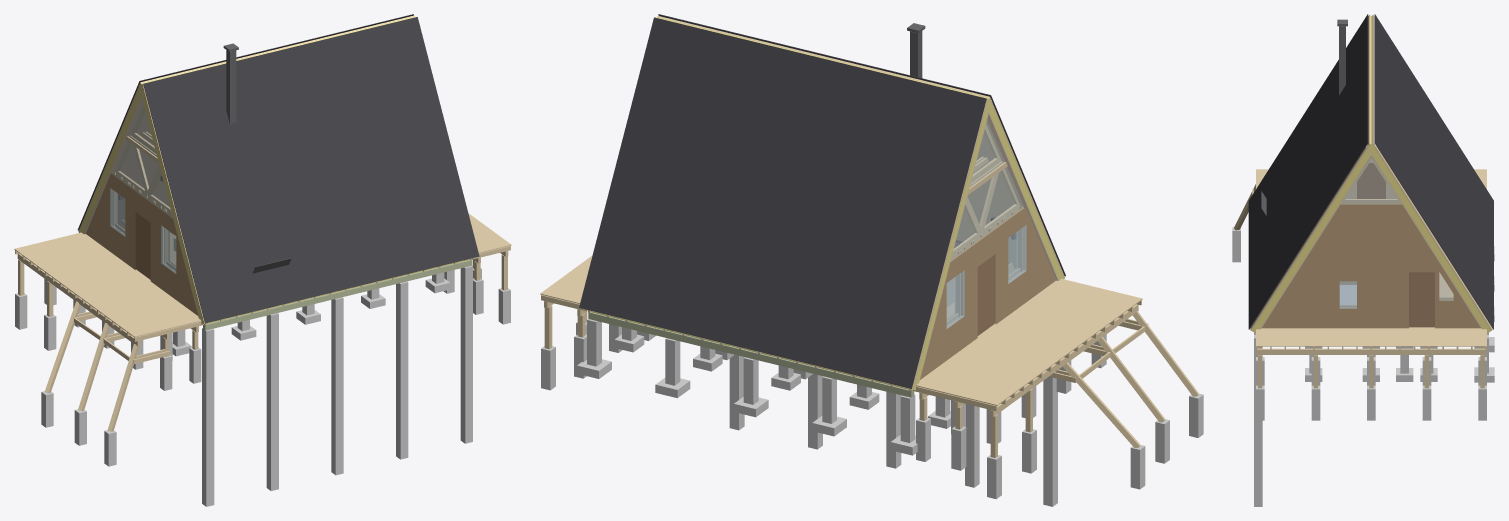
Rendered from cabin1.glb.
The picture shows the model from 3 angles, left to right: view 1: azimuth 30°, elevation 25°; view 2: azimuth 150°, elevation 25°; view 3: azimuth 270°, elevation 25°; orthographic projection. The views are drawn at different scales.
Visible parts, largest first — view 1: roof_sheet_N, decking_W, gable_W_logs, bored_pile_N0, bored_pile_N3, bored_pile_N2, bored_pile_N1, bored_pile_N4, pine_ceiling_S, beam_4, roof_insul_S, roof_insul_N (+15 smaller); view 2: roof_sheet_S, decking_W, gable_W_logs, pine_ceiling_N, beam_0, bored_pile_N0, roof_insul_N, roof_insul_S, door_W, roof_sheet_N, glazing_W2, bored_pile_N1 (+17 smaller); view 3: roof_sheet_S, gable_E_logs, roof_sheet_N, decking_E, roof_insul_N, roof_insul_S, glazing_E_top, door_E, deck_beam_E00.025, counter_battens_S, counter_battens_N, bored_pile_N4 (+12 smaller).
Part boxes in pixels (<box>): roof_sheet_N: <box>143,17,479,323</box>; decking_W: <box>14,232,201,337</box>; gable_W_logs: <box>86,173,197,315</box>; bored_pile_N0: <box>202,328,214,506</box>; bored_pile_N3: <box>396,281,408,459</box>; bored_pile_N2: <box>331,297,343,475</box>; bored_pile_N1: <box>266,313,278,490</box>; bored_pile_N4: <box>460,265,472,443</box>; pine_ceiling_S: <box>84,89,169,234</box>; beam_4: <box>203,260,471,330</box>; roof_insul_S: <box>79,17,415,233</box>; roof_insul_N: <box>139,84,476,324</box>; roof_sheet_S: <box>579,17,986,388</box>; decking_W: <box>916,278,1142,405</box>; gable_W_logs: <box>920,207,1055,379</box>; pine_ceiling_N: <box>956,105,1058,280</box>; beam_0: <box>588,312,914,397</box>; bored_pile_N0: <box>1043,376,1057,506</box>; roof_insul_N: <box>656,17,1063,279</box>; roof_insul_S: <box>583,99,990,390</box>; door_W: <box>977,254,995,335</box>; roof_sheet_N: <box>658,14,1065,276</box>; glazing_W2: <box>985,161,1023,234</box>; bored_pile_N1: <box>965,404,979,487</box>; roof_sheet_S: <box>1374,14,1493,329</box>; gable_E_logs: <box>1262,156,1480,328</box>; roof_sheet_N: <box>1248,14,1368,329</box>; decking_E: <box>1256,327,1486,346</box>; roof_insul_N: <box>1252,16,1374,332</box>; roof_insul_S: <box>1367,16,1490,332</box>; glazing_E_top: <box>1341,157,1401,203</box>; door_E: <box>1409,272,1434,326</box>; deck_beam_E00.025: <box>1256,349,1486,354</box>; counter_battens_S: <box>1372,15,1492,330</box>; counter_battens_N: <box>1250,15,1370,330</box>; bored_pile_N4: <box>1254,334,1262,506</box>.
Size of the model in its own units: 16.25 by 15.04 by 9.09.
